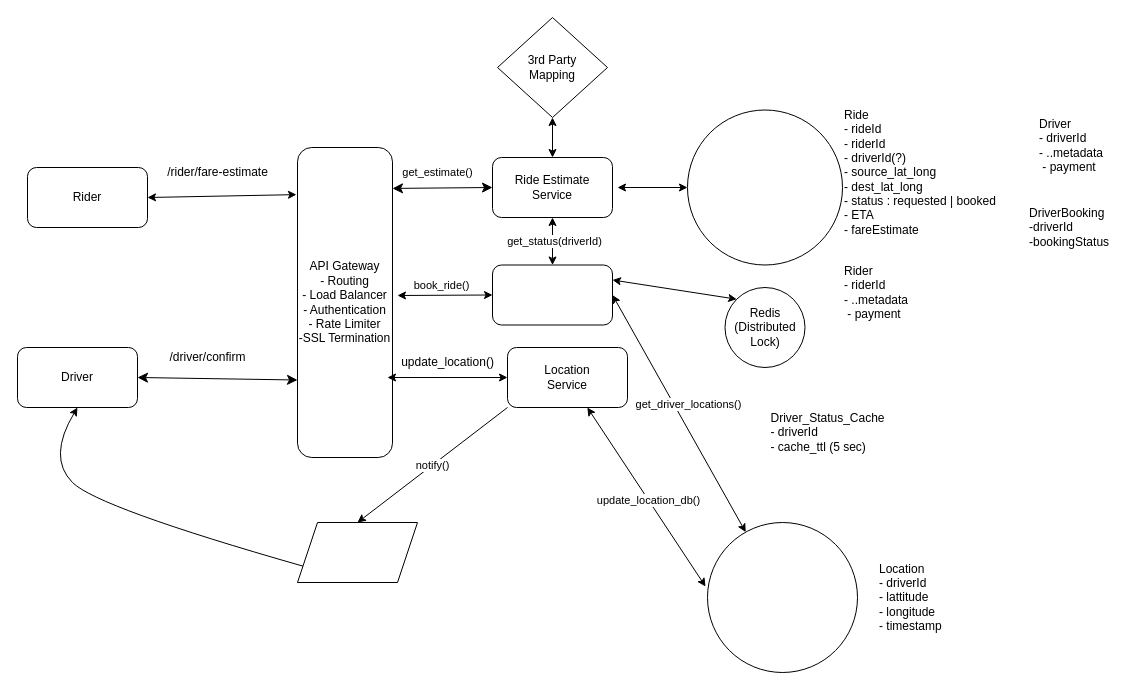
The diagram is 1145 pixels wide and 690 high, and some of its shapes have lost their labels. Each missing label, with the box of its shape:
Location DB: (706, 522, 858, 672)
Notification Service: (296, 522, 418, 582)
Ride DB (Dynamo DB): (686, 109, 842, 265)
Ride Matching Service: (492, 264, 612, 325)
